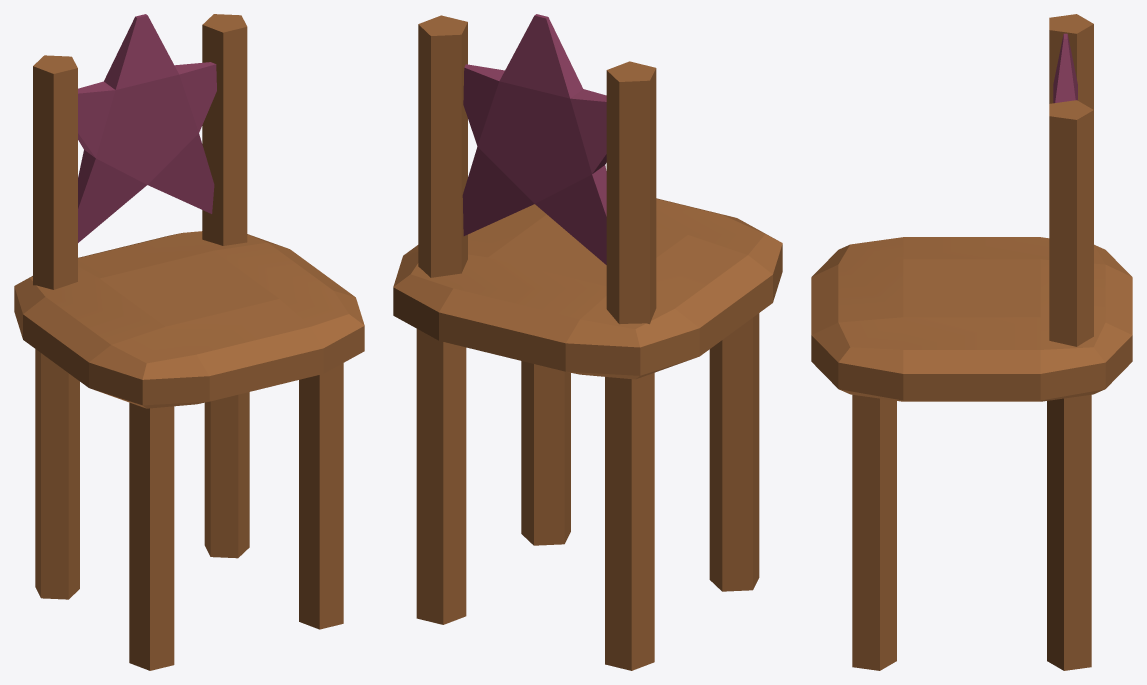
Rendered from cadeiraroxa.fbx.
The picture shows the model from 3 angles, left to right: view 1: azimuth 30°, elevation 25°; view 2: azimuth 150°, elevation 25°; view 3: azimuth 270°, elevation 25°; orthographic projection. The views are drawn at different scales.
Parts seen in each view (by area): view 1: Cylinder; view 2: Cylinder; view 3: Cylinder.
Part boxes in pixels (<box>): Cylinder: <box>14,14,364,670</box>; Cylinder: <box>393,14,782,670</box>; Cylinder: <box>811,14,1132,670</box>.
Size of the model in its own units: 306 by 611 by 306.
